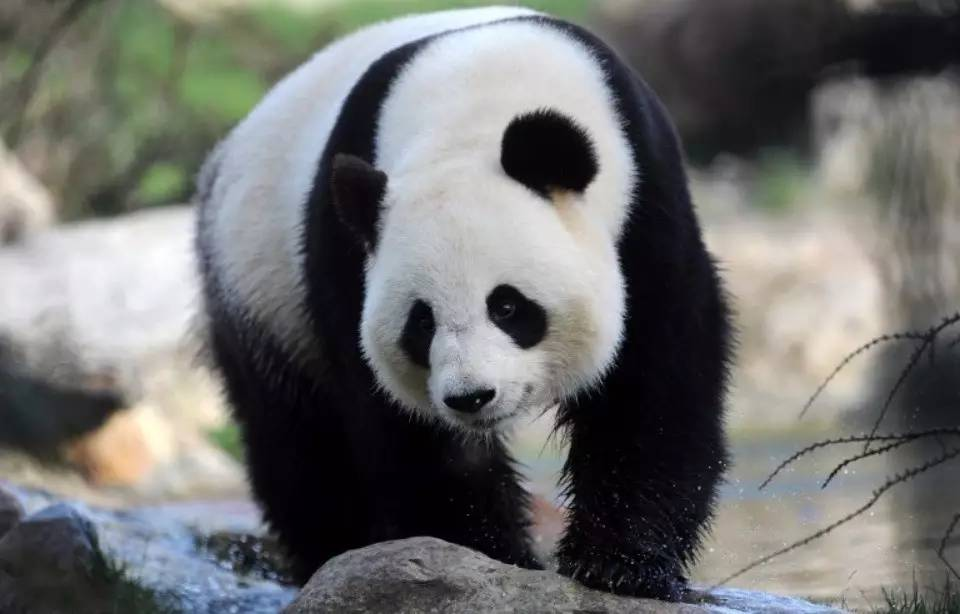panda: (189, 2, 738, 606)
